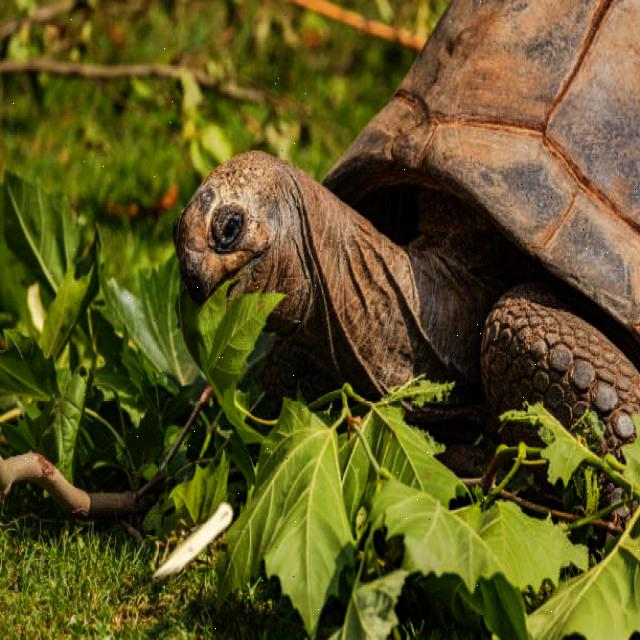tortoise: (157, 0, 638, 502)
